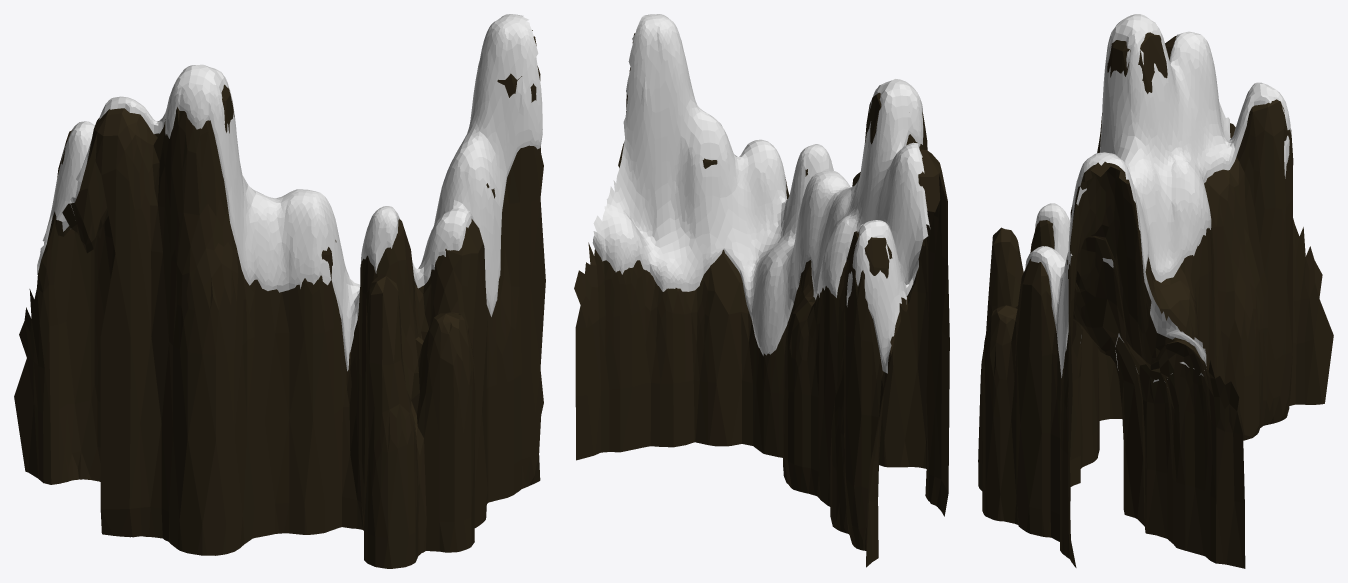
Rendered from Mtn_Corner_NW_M.fbx.
3 views of the same model, side by side, from view 1: azimuth 30°, elevation 25°; view 2: azimuth 150°, elevation 25°; view 3: azimuth 270°, elevation 25° (orthographic). The views are drawn at different scales.
Visible parts, largest first — view 1: Mtn_Corner_NW_M; view 2: Mtn_Corner_NW_M; view 3: Mtn_Corner_NW_M.
Boxes of the visible parts, x1=… form: Mtn_Corner_NW_M: x1=14, y1=14, x2=545, y2=568; Mtn_Corner_NW_M: x1=574, y1=14, x2=949, y2=567; Mtn_Corner_NW_M: x1=978, y1=14, x2=1333, y2=568.
Bounding box in the file's own units: 15979 × 18038 × 13924.
